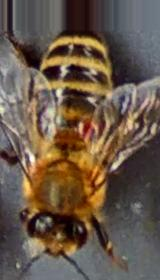varroa_mite: (73, 112, 109, 142)
